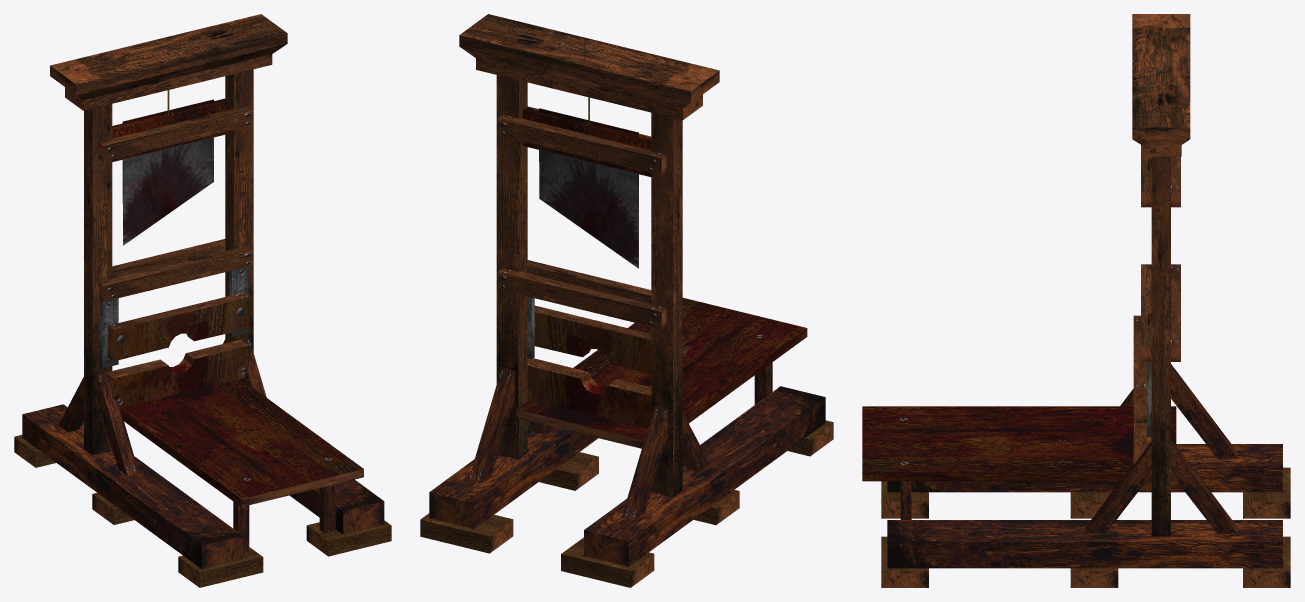
Rendered from Guillotine.fbx.
The picture shows the model from 3 angles, left to right: view 1: azimuth 30°, elevation 25°; view 2: azimuth 150°, elevation 25°; view 3: azimuth 270°, elevation 25°; orthographic projection. The views are drawn at different scales.
Parts seen in each view (by area): view 1: Guillotine:Mesh; view 2: Guillotine:Mesh; view 3: Guillotine:Mesh.
Boxes of the visible parts, <box> form: Guillotine:Mesh: <box>14,14,391,587</box>; Guillotine:Mesh: <box>420,14,833,587</box>; Guillotine:Mesh: <box>862,14,1290,587</box>.
Size of the model in its own units: 1.66 by 3.18 by 2.65.
